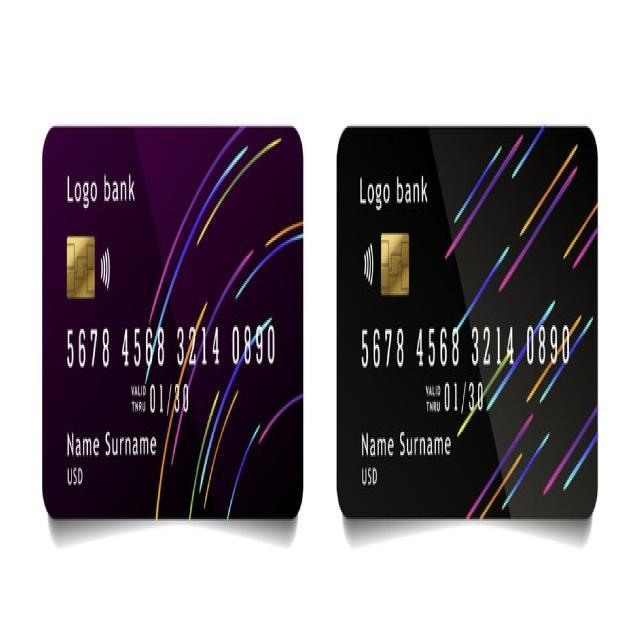payment_card: (40, 124, 303, 521), (335, 125, 598, 520)
